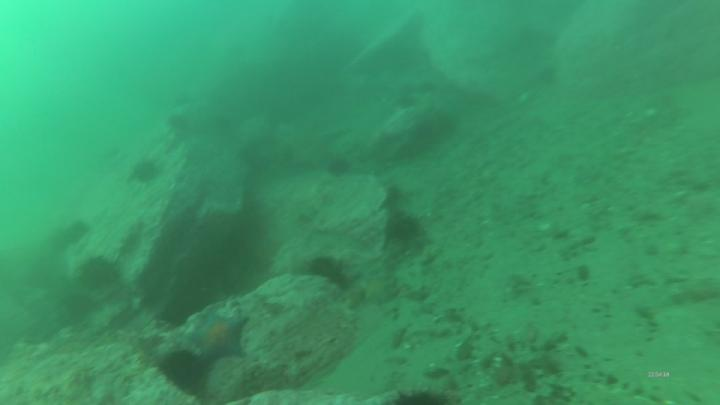echinus: (166, 351, 201, 388), (80, 260, 120, 288), (390, 215, 425, 245), (311, 258, 345, 284), (325, 156, 351, 178), (135, 164, 157, 180)
starfish: (197, 315, 245, 357)
